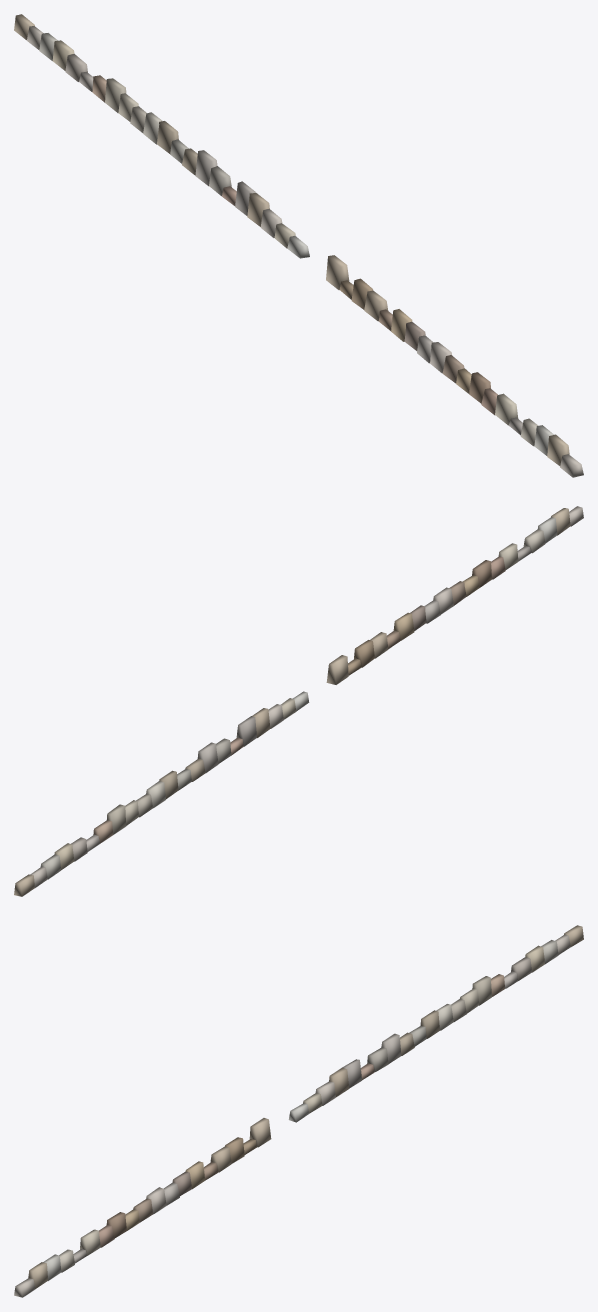
File: farm_-5_10_far.glb
3 views of the same model, one above another, from view 1: azimuth 30°, elevation 25°; view 2: azimuth 150°, elevation 25°; view 3: azimuth 330°, elevation 25° (orthographic). The views are drawn at different scales.
Visible parts, largest first — view 1: geometry_0; view 2: geometry_0; view 3: geometry_0.
Boxes of the visible parts, left/top/right/bottom form: geometry_0: left=14, top=14, right=583, bottom=477; geometry_0: left=14, top=506, right=583, bottom=896; geometry_0: left=14, top=925, right=583, bottom=1297.
Size of the model in its own units: 3.95 by 2.03 by 68.29.
